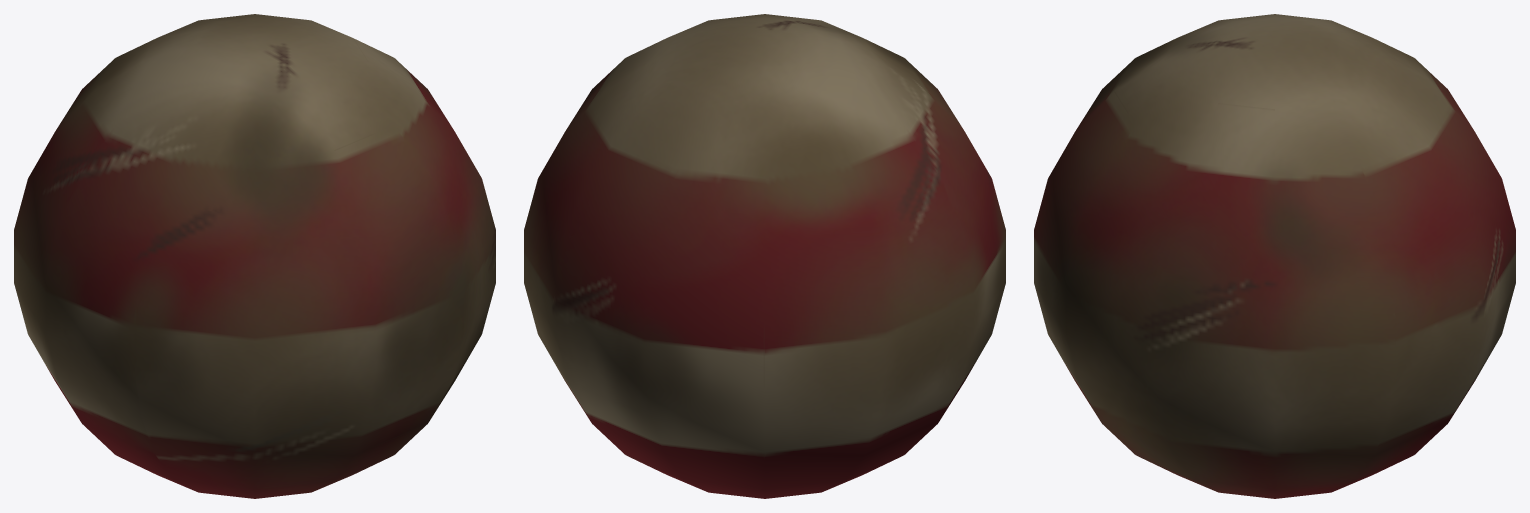
Rendered from Prop_BigBall.glb.
3 renders of one model, left to right at view 1: azimuth 30°, elevation 25°; view 2: azimuth 150°, elevation 25°; view 3: azimuth 270°, elevation 25°, orthographic.
Parts seen in each view (by area): view 1: Sphere; view 2: Sphere; view 3: Sphere.
Part boxes in pixels (x1=…): Sphere: x1=14, y1=14, x2=495, y2=498; Sphere: x1=524, y1=14, x2=1005, y2=498; Sphere: x1=1034, y1=14, x2=1515, y2=498.
Size of the model in its own units: 0.8934 by 0.9 by 0.8934.
Materials: 1 (1 with a texture image).
